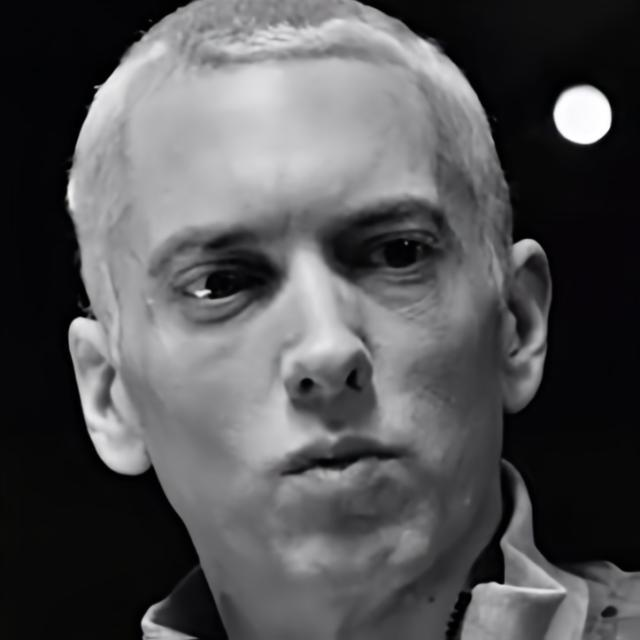anger: (125, 86, 502, 612)
